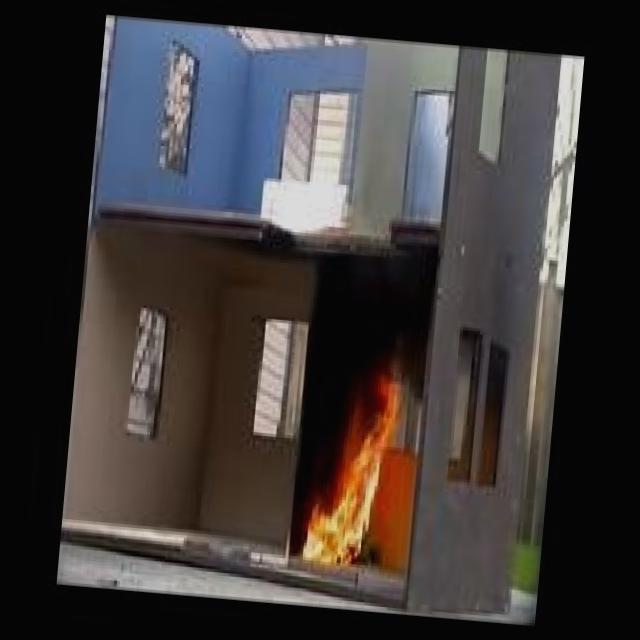fire: (284, 366, 419, 581)
